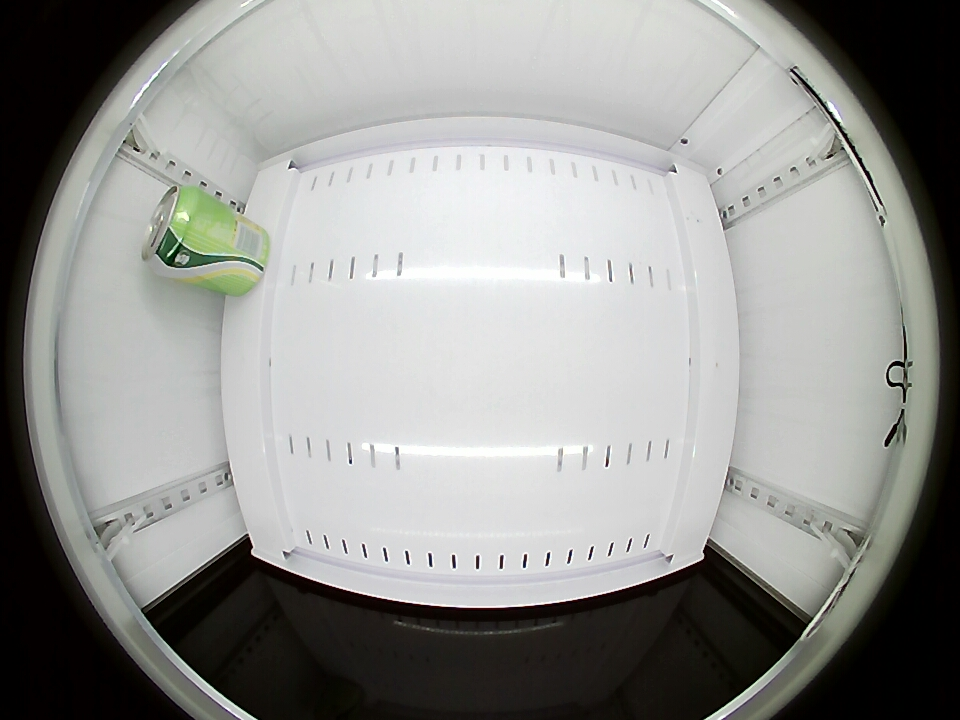quchenshixiangcao: (142, 185, 205, 275)
